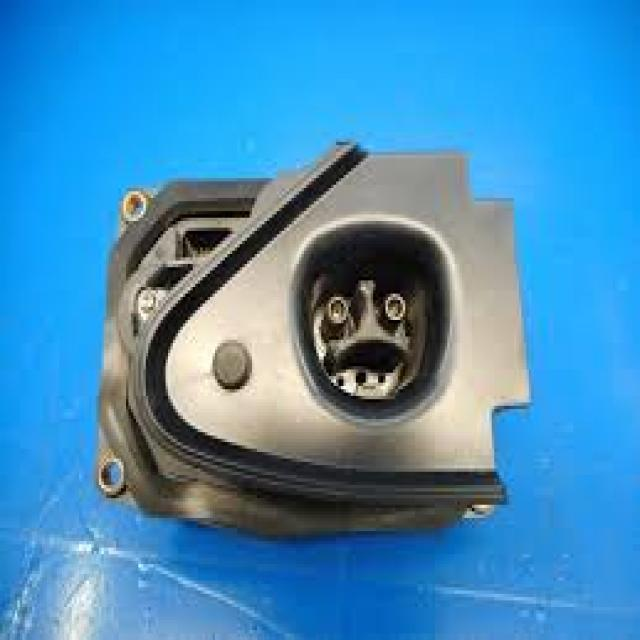Tesla Model-S-: (267, 184, 475, 475)
